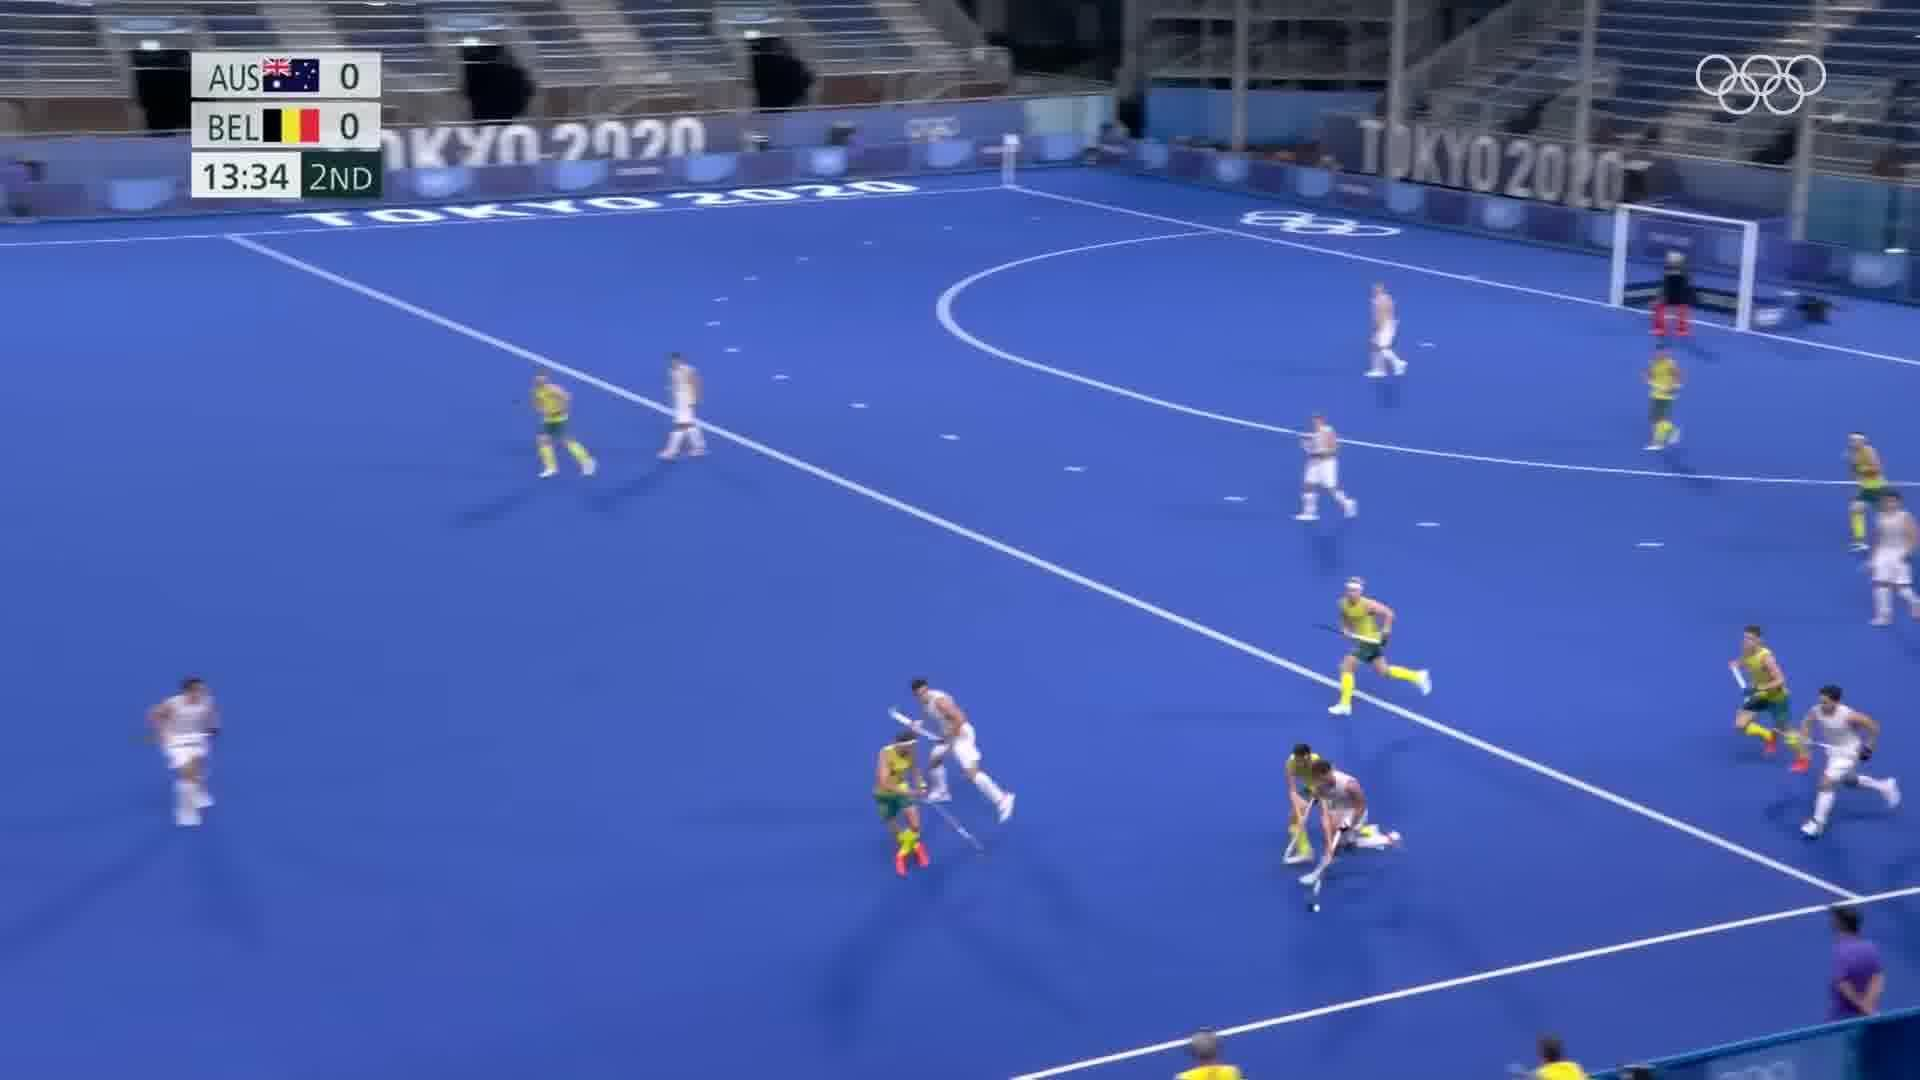ball: (1305, 895, 1325, 921)
